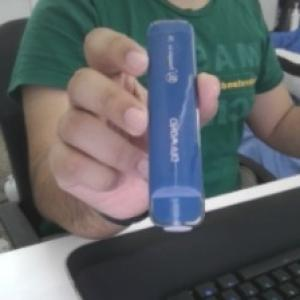Diamond-E-Ciggirate: (145, 16, 209, 235)
